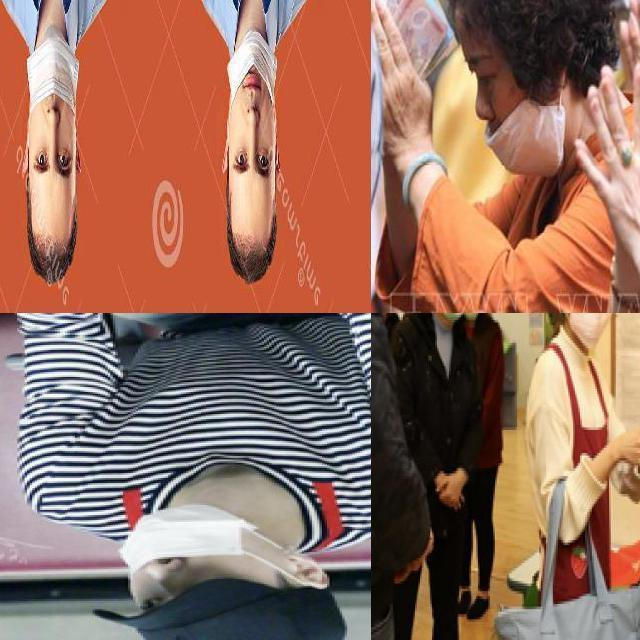hairnet: (120, 502, 245, 581), (469, 80, 563, 177), (31, 43, 75, 132), (230, 43, 273, 120)
